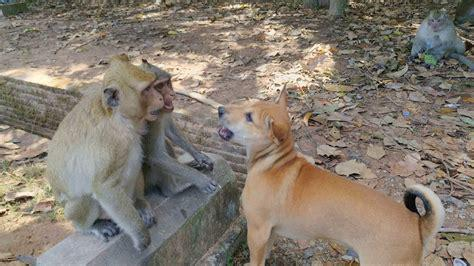monkey: (217, 85, 443, 266), (46, 58, 163, 250), (138, 61, 215, 193)
